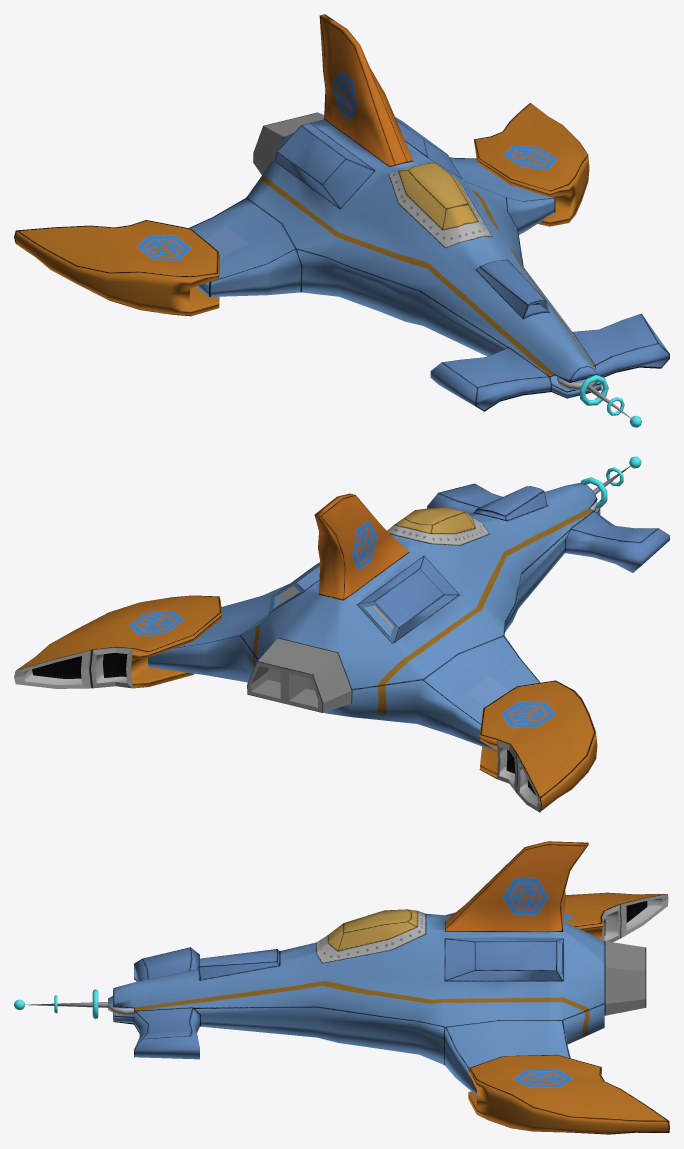
Rendered from HHH.fbx.
3 renders of one model, top to bottom at view 1: azimuth 30°, elevation 25°; view 2: azimuth 150°, elevation 25°; view 3: azimuth 270°, elevation 25°, orthographic. The views are drawn at different scales.
Parts seen in each view (by area): view 1: base, R_booster, L_booster, gun; view 2: base, L_booster, R_booster, gun; view 3: base, L_booster, R_booster, gun.
Boxes of the visible parts, left/top/right/bottom form: base: left=189, top=14, right=669, bottom=411; R_booster: left=14, top=220, right=219, bottom=316; L_booster: left=473, top=103, right=589, bottom=226; gun: left=557, top=375, right=641, bottom=427; base: left=148, top=483, right=669, bottom=751; L_booster: left=14, top=595, right=222, bottom=688; R_booster: left=479, top=680, right=597, bottom=812; gun: left=580, top=456, right=641, bottom=510; base: left=113, top=841, right=646, bottom=1095; L_booster: left=468, top=1054, right=669, bottom=1134; R_booster: left=564, top=892, right=668, bottom=942; gun: left=14, top=989, right=133, bottom=1019.
Size of the model in its own units: 13.31 by 5.18 by 16.08.
2 materials, 2 textured.
